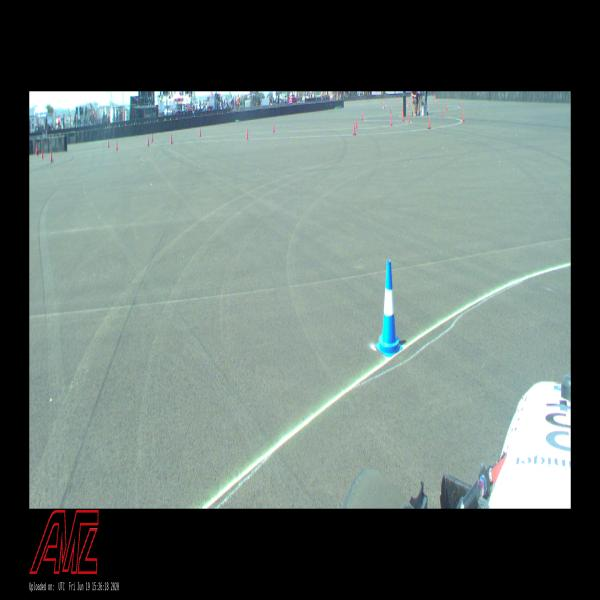blue_cone: (375, 260, 403, 357)
orange_cone: (353, 123, 356, 135), (462, 110, 465, 121), (41, 149, 44, 159), (272, 122, 275, 132), (50, 151, 53, 161), (115, 140, 118, 150), (147, 136, 150, 146), (170, 134, 173, 144), (355, 118, 358, 128), (428, 116, 430, 129), (246, 128, 248, 140), (390, 115, 392, 126), (408, 112, 410, 122), (151, 133, 153, 142), (402, 112, 404, 121), (362, 112, 364, 120), (108, 140, 110, 148), (199, 128, 201, 136), (390, 106, 392, 113), (442, 108, 443, 117), (446, 103, 447, 110)
